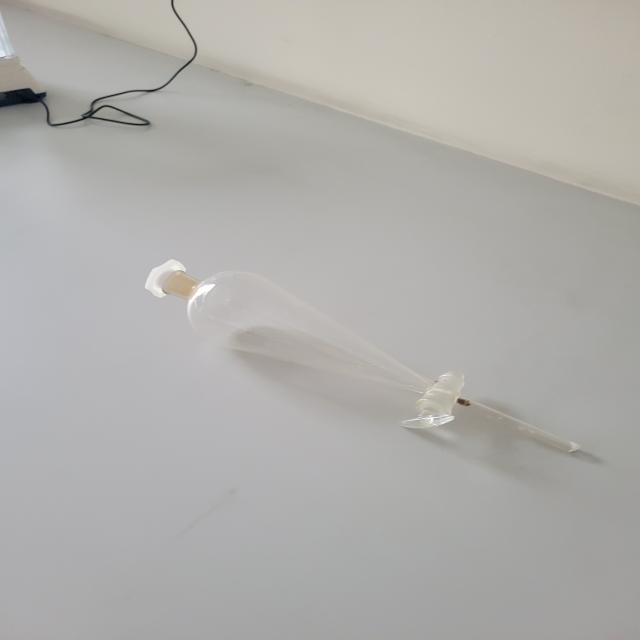Separating_Funnel: (114, 223, 620, 484)
